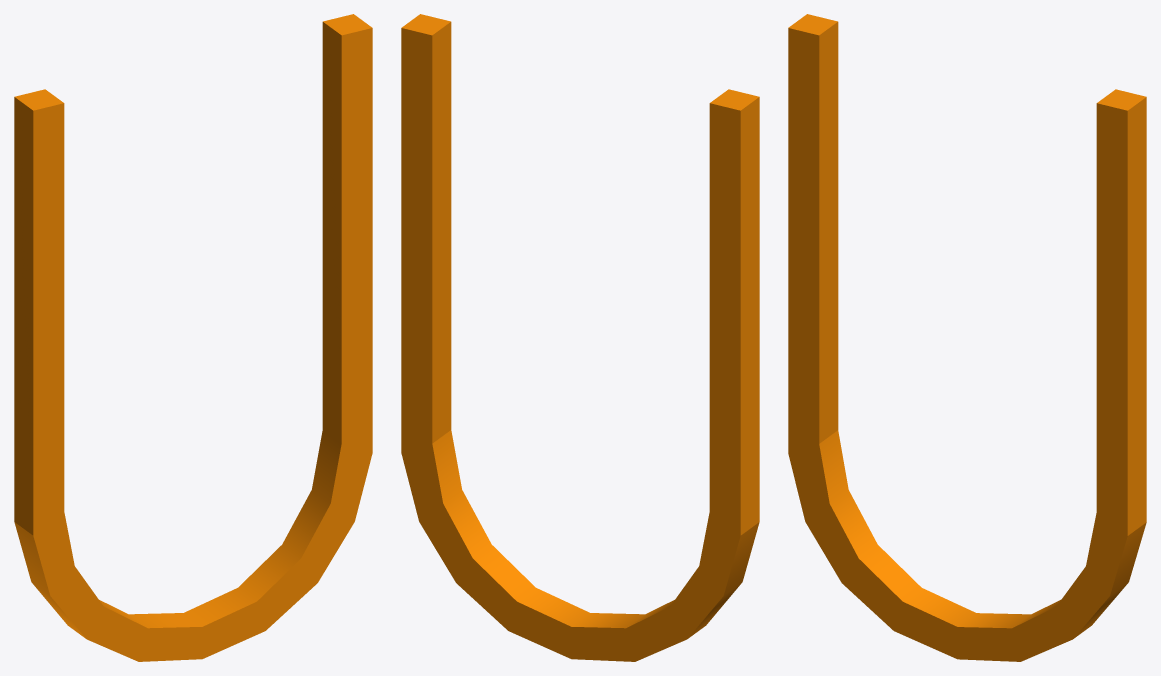
The picture shows the model from 3 angles, left to right: view 1: azimuth 30°, elevation 25°; view 2: azimuth 150°, elevation 25°; view 3: azimuth 330°, elevation 25°; orthographic projection.
Parts seen in each view (by area): view 1: U; view 2: U; view 3: U.
Part boxes in pixels (bbox=[...]): U: bbox=[14, 14, 372, 661]; U: bbox=[401, 14, 759, 661]; U: bbox=[788, 14, 1146, 661].
Size of the model in its own units: 51.58 by 85.67 by 5.
